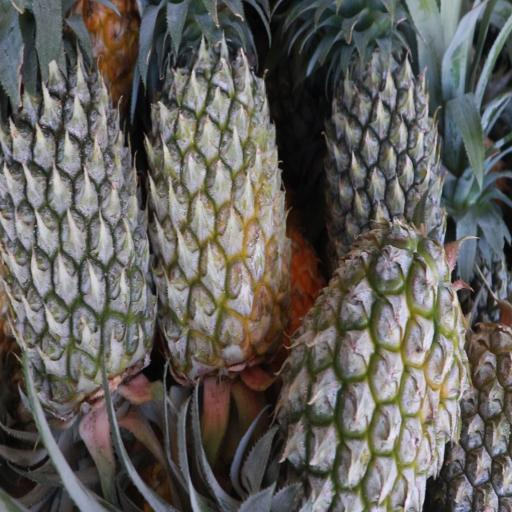------------------------------: (281, 238, 461, 512), (150, 12, 284, 368)
